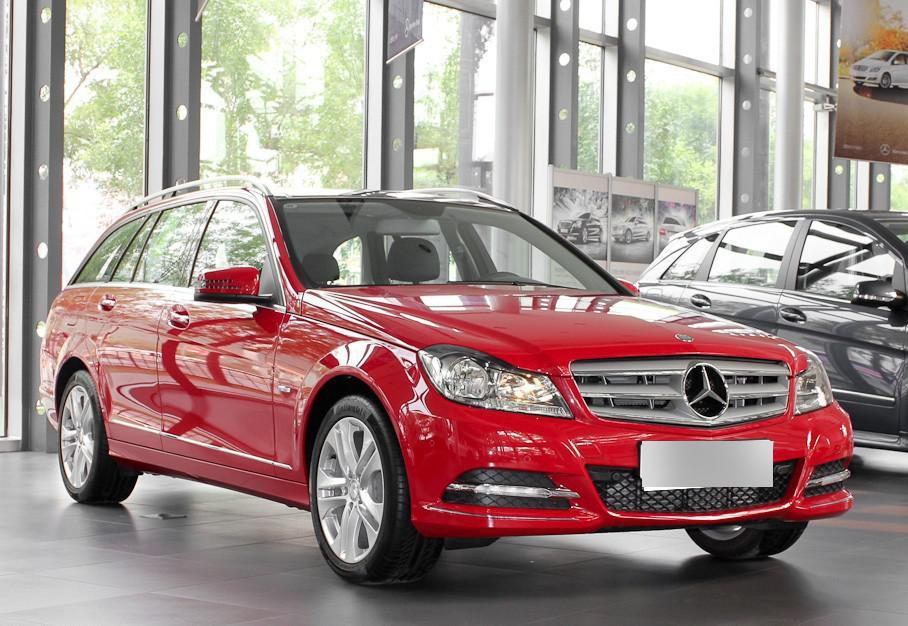Wagon: (36, 173, 856, 588)
